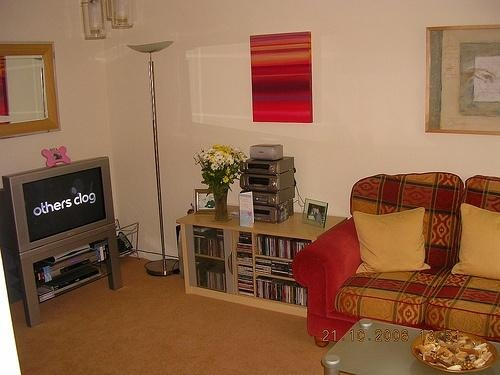sofa: (292, 172, 500, 350)
tvmonitor: (1, 156, 117, 253)
